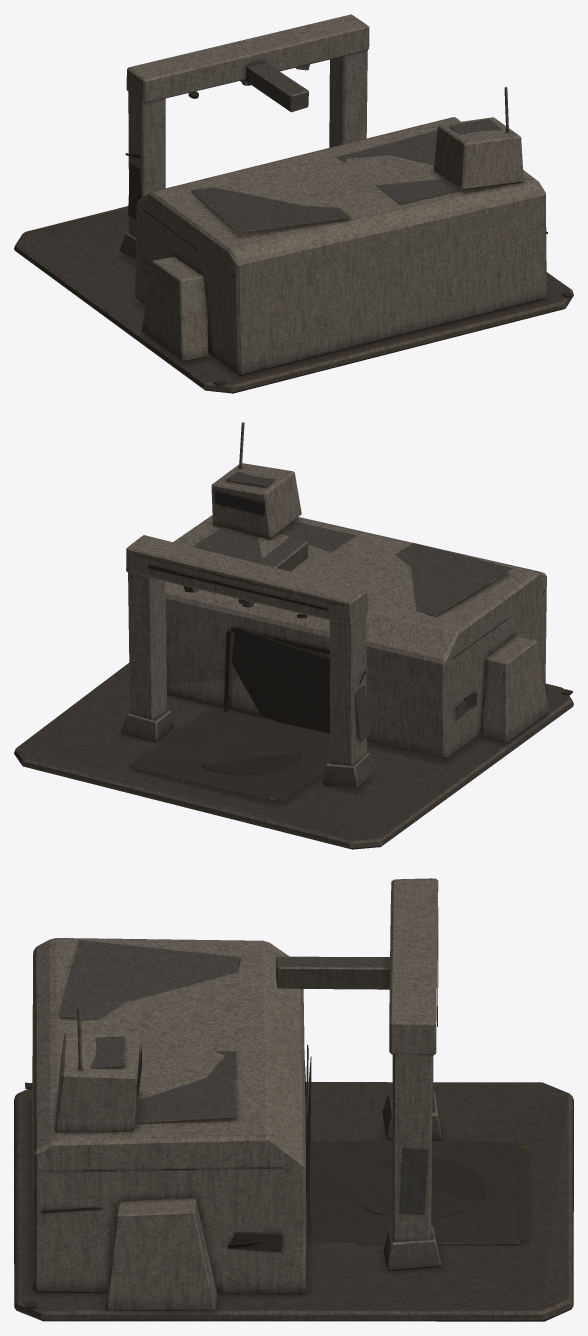
File: ord_botlab_wreck.fbx
3 renders of one model, top to bottom at view 1: azimuth 30°, elevation 25°; view 2: azimuth 150°, elevation 25°; view 3: azimuth 270°, elevation 25°, orthographic. The views are drawn at different scales.
Visible parts, largest first — view 1: base_bar; view 2: base_bar; view 3: base_bar.
Part boxes in pixels (<box>): base_bar: <box>14,14,573,393</box>; base_bar: <box>14,422,573,849</box>; base_bar: <box>14,878,573,1321</box>.
Size of the model in its own units: 3124 by 1928 by 3104.
2 materials, 2 textured.
